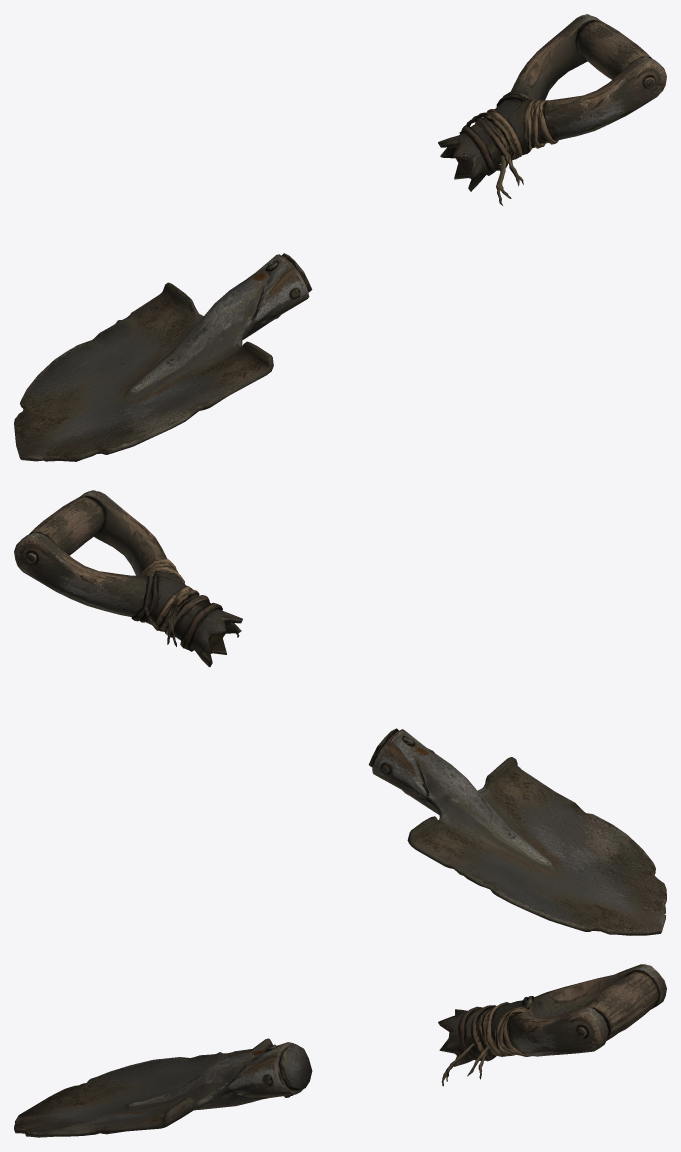
The model's file is 019effde-2223-711a-8ef7-569539077c78.glb.
3 views of the same model, one above another, from view 1: azimuth 30°, elevation 25°; view 2: azimuth 150°, elevation 25°; view 3: azimuth 330°, elevation 25° (orthographic).
Visible parts, largest first — view 1: tripo_node_6db09eec-5def-4e2e-93cb-77e94a283694; view 2: tripo_node_6db09eec-5def-4e2e-93cb-77e94a283694; view 3: tripo_node_6db09eec-5def-4e2e-93cb-77e94a283694.
Part boxes in pixels (x1=…): tripo_node_6db09eec-5def-4e2e-93cb-77e94a283694: x1=14, y1=14, x2=666, y2=461; tripo_node_6db09eec-5def-4e2e-93cb-77e94a283694: x1=14, y1=490, x2=666, y2=935; tripo_node_6db09eec-5def-4e2e-93cb-77e94a283694: x1=14, y1=964, x2=666, y2=1137.
Bounding box in the file's own units: 0.998 × 0.4277 × 0.2988.
Materials: 1 (1 with a texture image).
